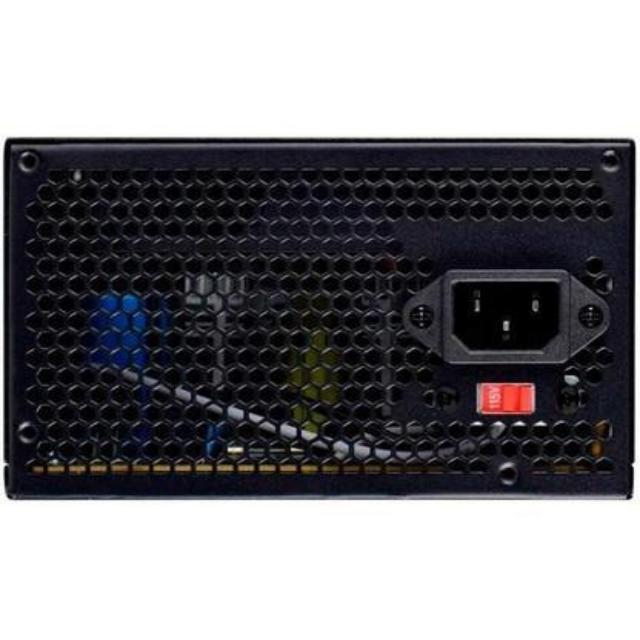PSU: (0, 128, 640, 514)
